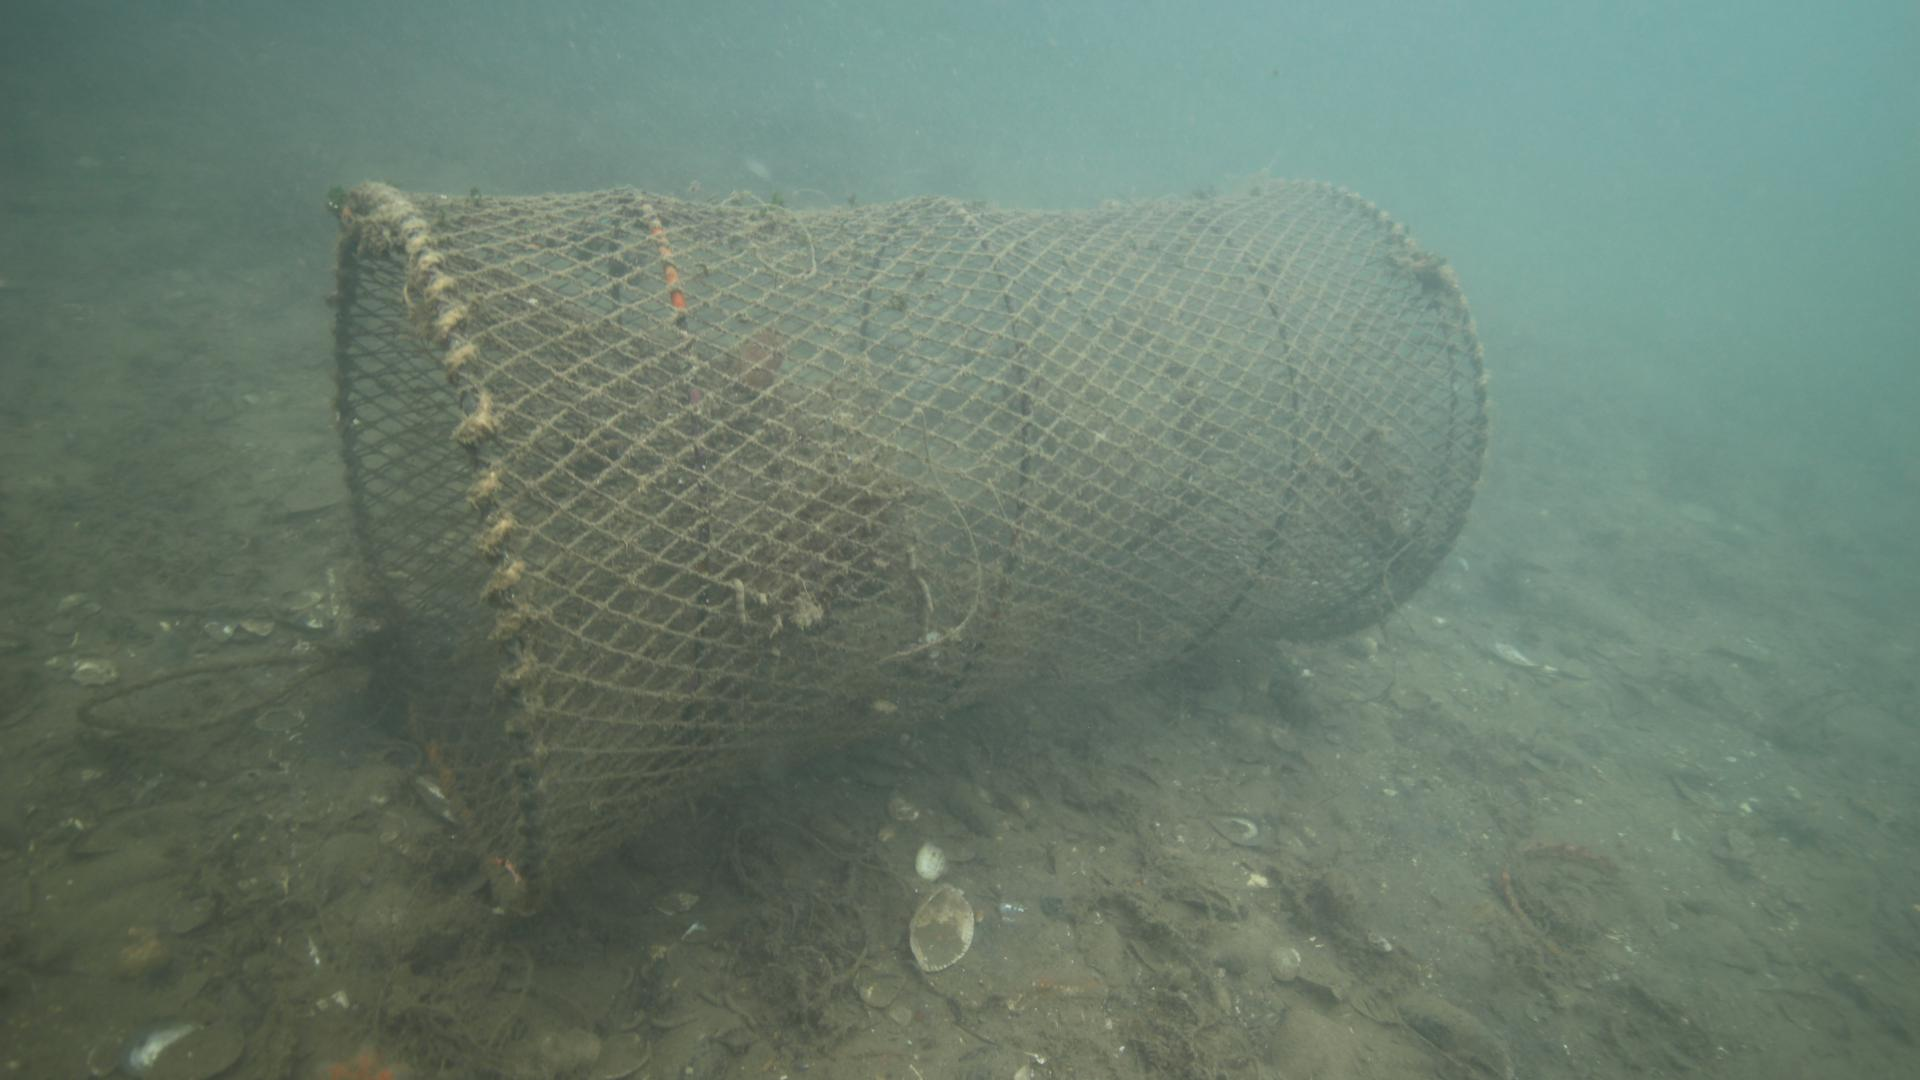spring fish trap: (328, 173, 1491, 919)
